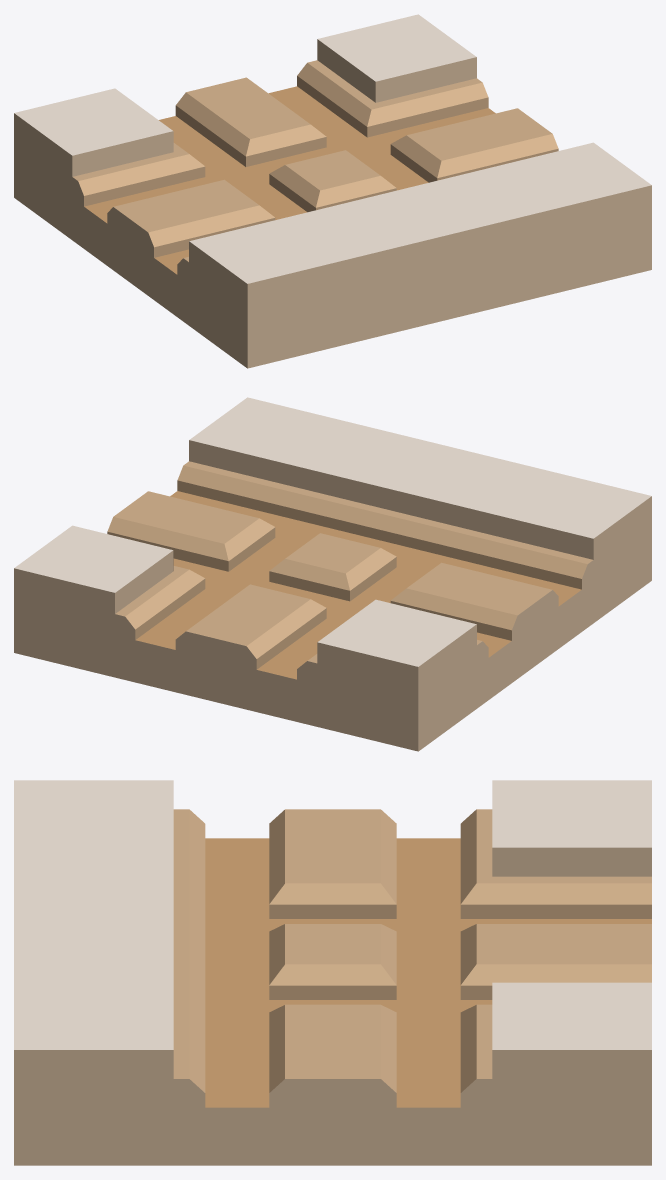
The model's file is Puzzle_Track_Standard_TJoint.fbx.
3 views of the same model, one above another, from view 1: azimuth 30°, elevation 25°; view 2: azimuth 150°, elevation 25°; view 3: azimuth 270°, elevation 25° (orthographic). The views are drawn at different scales.
Parts seen in each view (by area): view 1: Sandstone_Trim.Sandstone_Trim.Sandstone_Trim.Sandstone_Trim., Sandstone_4.Sandstone_4.Sandstone_4.Sandstone_4.object1, Sandstone_Floor.Sandstone_Floor.Sandstone_Floor, Sandstone_5; view 2: Sandstone_Trim.Sandstone_Trim.Sandstone_Trim.Sandstone_Trim., Sandstone_4.Sandstone_4.Sandstone_4.Sandstone_4.object1, Sandstone_Floor.Sandstone_Floor.Sandstone_Floor, Sandstone_5; view 3: Sandstone_4.Sandstone_4.Sandstone_4.Sandstone_4.object1, Sandstone_Trim.Sandstone_Trim.Sandstone_Trim.Sandstone_Trim., Sandstone_Floor.Sandstone_Floor.Sandstone_Floor, Sandstone_5.
Boxes of the visible parts, x1=… form: Sandstone_Trim.Sandstone_Trim.Sandstone_Trim.Sandstone_Trim.: x1=14, y1=39, x2=651, y2=368; Sandstone_4.Sandstone_4.Sandstone_4.Sandstone_4.object1: x1=73, y1=60, x2=558, y2=261; Sandstone_Floor.Sandstone_Floor.Sandstone_Floor: x1=14, y1=14, x2=651, y2=283; Sandstone_5: x1=84, y1=86, x2=495, y2=274; Sandstone_Trim.Sandstone_Trim.Sandstone_Trim.Sandstone_Trim.: x1=14, y1=440, x2=651, y2=751; Sandstone_4.Sandstone_4.Sandstone_4.Sandstone_4.object1: x1=107, y1=461, x2=592, y2=669; Sandstone_Floor.Sandstone_Floor.Sandstone_Floor: x1=14, y1=397, x2=651, y2=666; Sandstone_5: x1=135, y1=491, x2=581, y2=679; Sandstone_4.Sandstone_4.Sandstone_4.Sandstone_4.object1: x1=173, y1=809, x2=651, y2=1092; Sandstone_Trim.Sandstone_Trim.Sandstone_Trim.Sandstone_Trim.: x1=14, y1=847, x2=651, y2=1165; Sandstone_Floor.Sandstone_Floor.Sandstone_Floor: x1=14, y1=780, x2=651, y2=1049; Sandstone_5: x1=205, y1=838, x2=651, y2=1107.
Bounding box in the file's own units: 1 × 0.2 × 1.
